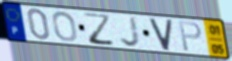0: (26, 8, 52, 42)
J: (119, 16, 142, 49)
O: (51, 10, 79, 43)
P: (177, 21, 204, 53)
V: (148, 17, 174, 52)
Z: (82, 12, 117, 48)
